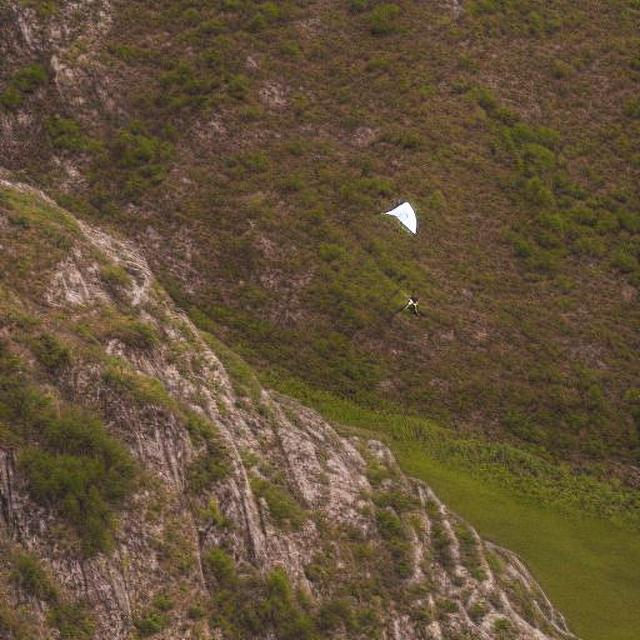floating object: (382, 200, 418, 236), (400, 292, 423, 318)
